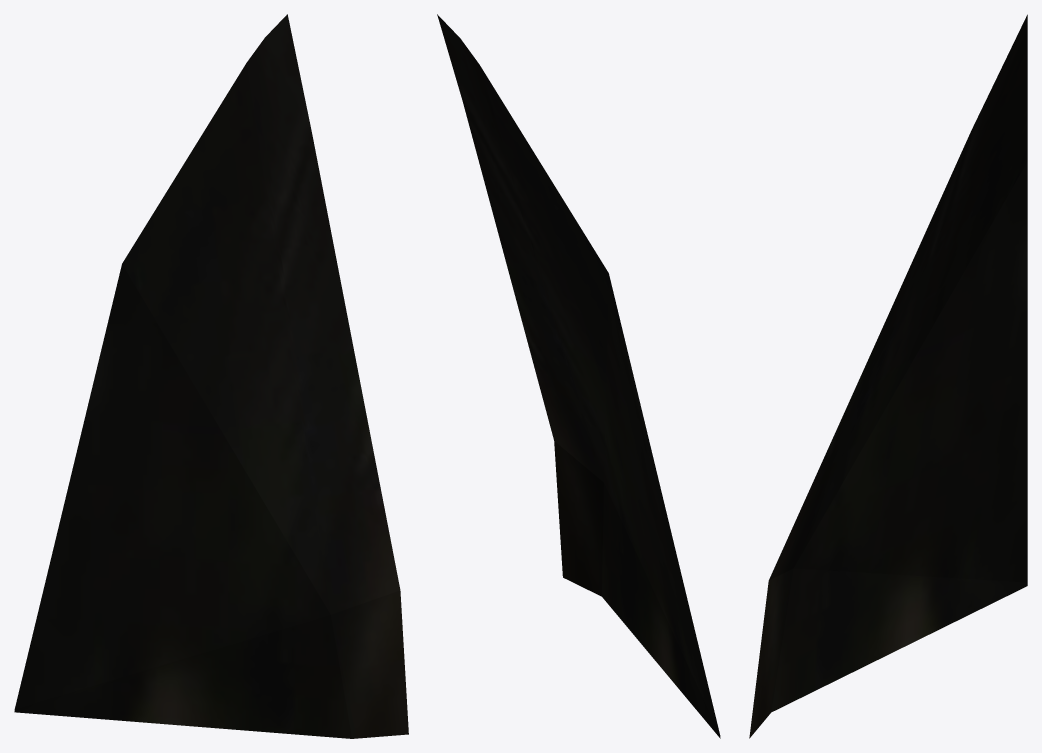
The picture shows the model from 3 angles, left to right: view 1: azimuth 30°, elevation 25°; view 2: azimuth 150°, elevation 25°; view 3: azimuth 270°, elevation 25°; orthographic projection. The views are drawn at different scales.
Bounding box in the file's own units: 0.2362 × 0.5212 × 0.1814.
1 material, 1 textured.
